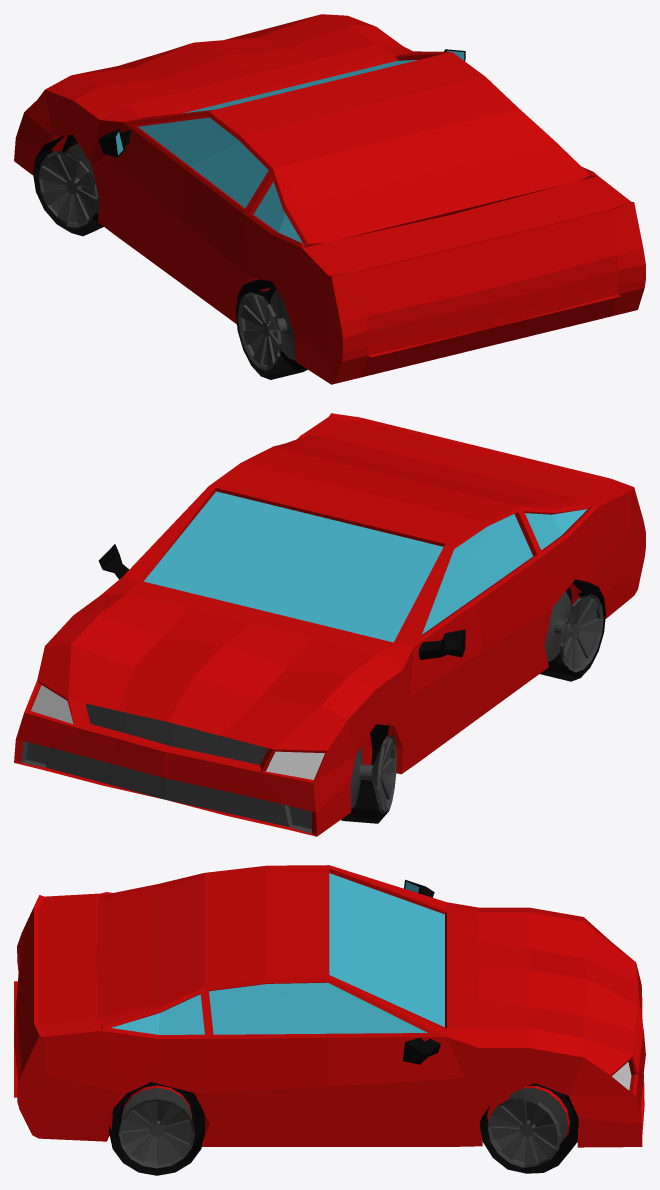
Rendered from car2.obj.
The picture shows the model from 3 angles, top to bottom: view 1: azimuth 30°, elevation 25°; view 2: azimuth 150°, elevation 25°; view 3: azimuth 270°, elevation 25°; orthographic projection. The views are drawn at different scales.
Visible parts, largest first — view 1: Cube; view 2: Cube; view 3: Cube.
Part boxes in pixels (x1,y1,x2,y2): Cube: [14, 14, 645, 384]; Cube: [14, 413, 645, 836]; Cube: [14, 865, 645, 1175].
Bounding box in the file's own units: 2.75 × 1.38 × 4.39.
